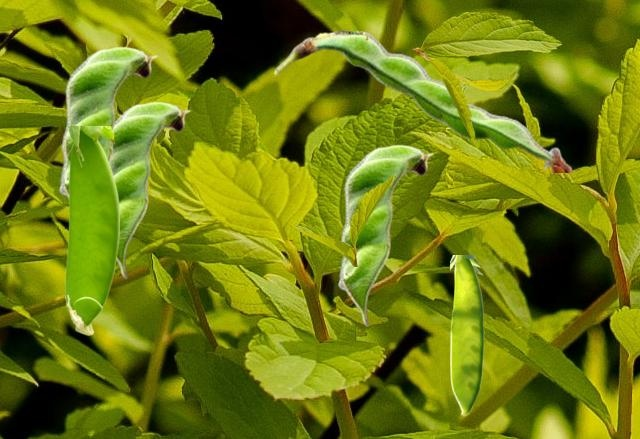pea: (274, 30, 572, 171), (337, 144, 433, 326), (58, 46, 157, 201), (111, 101, 190, 278), (65, 126, 118, 334), (450, 255, 483, 415)
